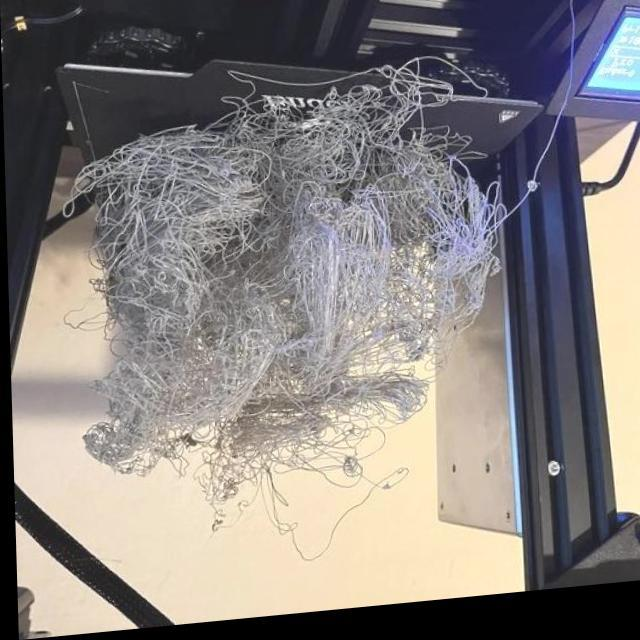spaghetti: (97, 317, 273, 476), (275, 268, 415, 450), (100, 185, 249, 326), (95, 129, 311, 213), (266, 176, 384, 281), (417, 173, 485, 334), (324, 101, 419, 194), (274, 436, 363, 491), (195, 452, 251, 520)
